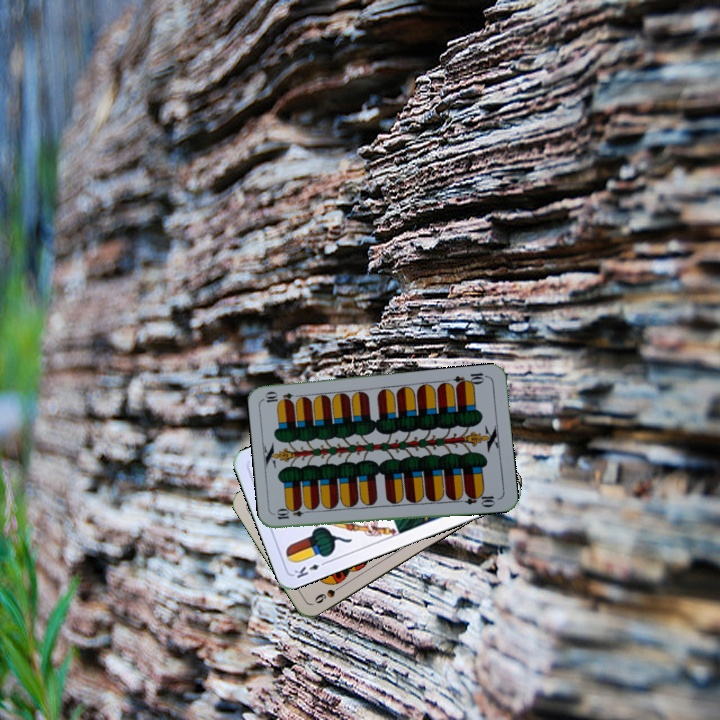E10: (450, 369, 490, 390), (273, 505, 313, 522)
EK: (290, 557, 330, 581)
S9: (310, 580, 347, 606)
